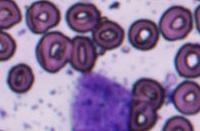D: (68, 69, 132, 130)
